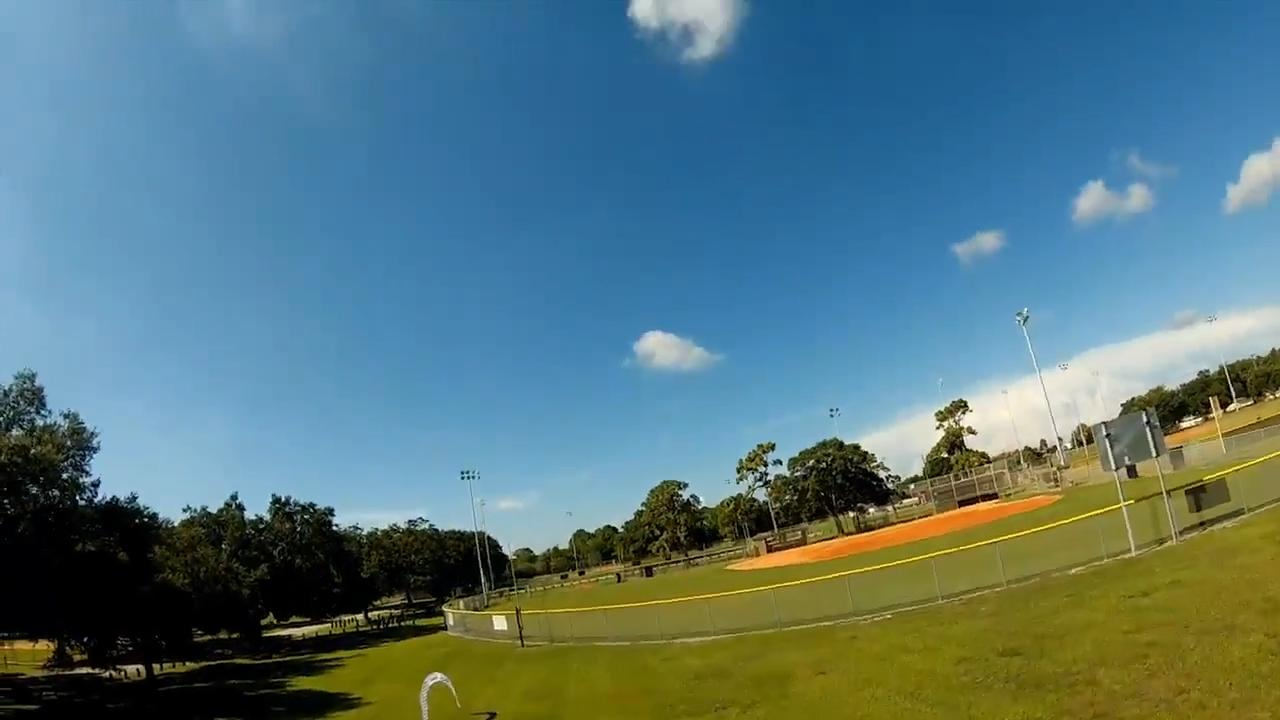gate: (413, 671, 464, 720)
